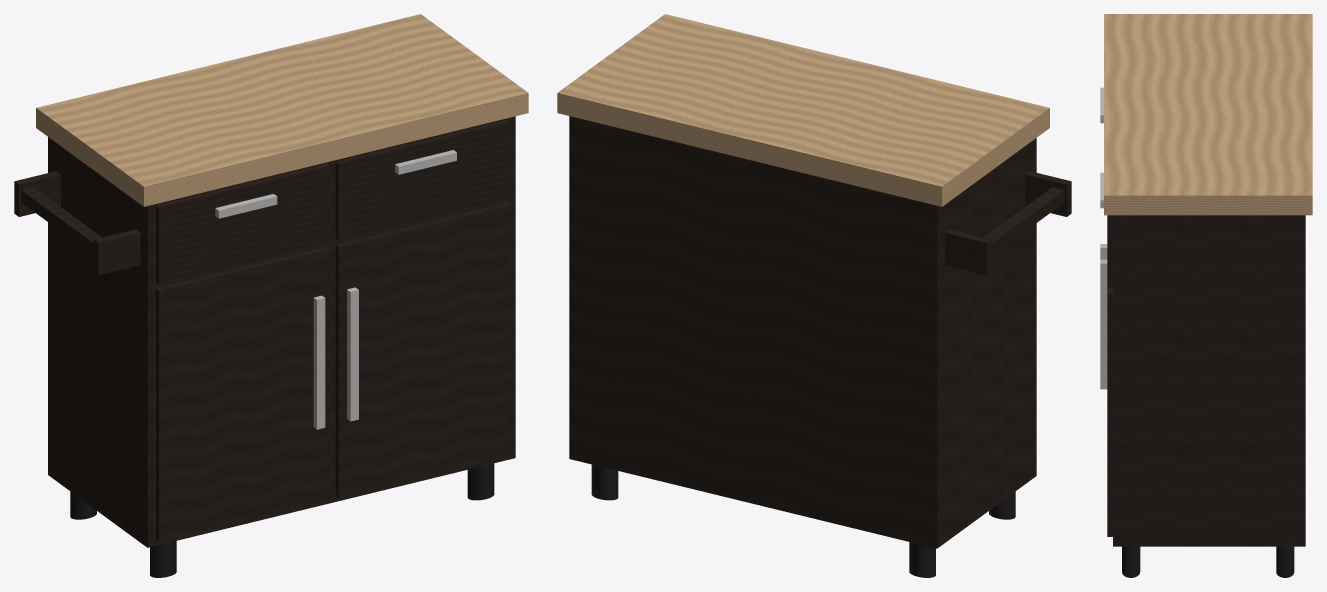
3 views of the same model, side by side, from view 1: azimuth 30°, elevation 25°; view 2: azimuth 150°, elevation 25°; view 3: azimuth 270°, elevation 25° (orthographic). The views are drawn at different scales.
Parts seen in each view (by area): view 1: 1 countertop, 7 left_door, 8 right_door, 2 cabinet_body, 3 left_drawer_front, 4 right_drawer_front, 13 towel_rack_rod, 11 towel_rack_front_bracket, 9 left_door_handle, 10 right_door_handle, 12 towel_rack_back_bracket, 15 caster_front_right (+3 smaller); view 2: 2 cabinet_body, 1 countertop, 13 towel_rack_rod, 12 towel_rack_back_bracket, 11 towel_rack_front_bracket, 17 caster_back_right, 16 caster_back_left; view 3: 2 cabinet_body, 1 countertop, 8 right_door, 10 right_door_handle, 15 caster_front_right, 17 caster_back_right, 4 right_drawer_front.
Part boxes in pixels (x1,y1,x2,y2): 1 countertop: (36,14,528,206); 7 left_door: (156,247,330,541); 8 right_door: (335,203,509,497); 2 cabinet_body: (48,116,515,547); 3 left_drawer_front: (156,163,330,284); 4 right_drawer_front: (335,120,509,240); 13 towel_rack_rod: (21,187,112,257); 11 towel_rack_front_bracket: (94,229,140,275); 9 left_door_handle: (313,295,325,429); 10 right_door_handle: (347,287,358,421); 12 towel_rack_back_bracket: (14,171,60,216); 15 caster_front_right: (467,463,494,500); 2 cabinet_body: (569,116,1036,548); 1 countertop: (557,14,1049,206); 13 towel_rack_rod: (972,187,1064,260); 12 towel_rack_back_bracket: (945,229,991,275); 11 towel_rack_front_bracket: (1025,171,1071,216); 17 caster_back_right: (591,464,618,500); 16 caster_back_left: (909,542,935,577); 2 cabinet_body: (1113,215,1305,546); 1 countertop: (1104,14,1312,215); 8 right_door: (1107,287,1112,536); 10 right_door_handle: (1100,259,1107,389); 15 caster_front_right: (1122,546,1140,577); 17 caster_back_right: (1276,546,1294,577); 4 right_drawer_front: (1107,215,1112,287).
Bounding box in the file's own units: 1.08 × 1 × 0.49.
4 materials, 2 textured.
